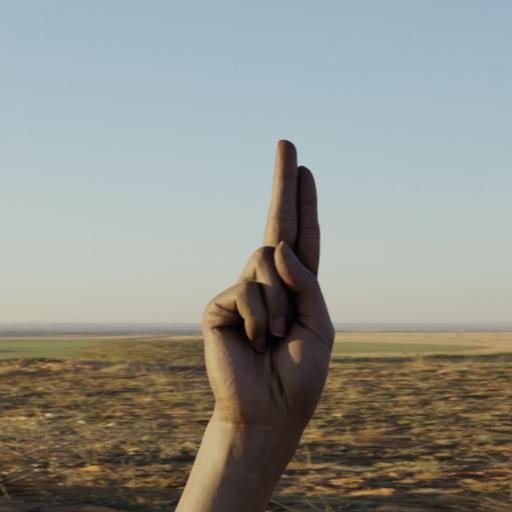U: (169, 113, 359, 449)
